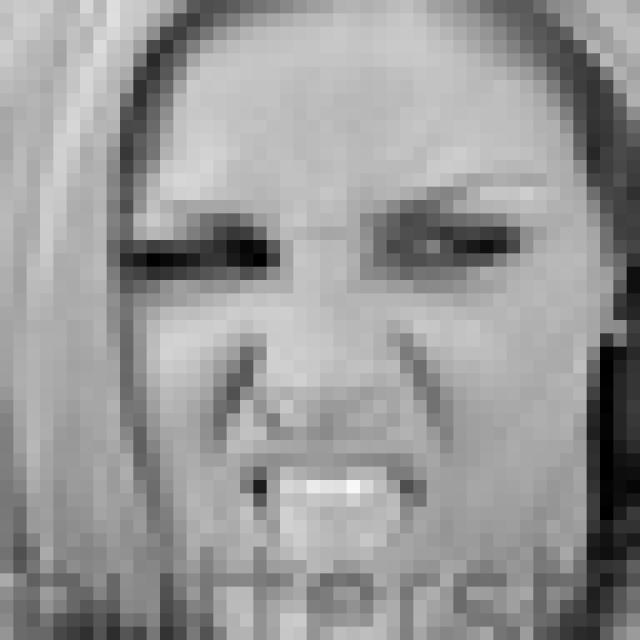disgust: (125, 150, 553, 621)
